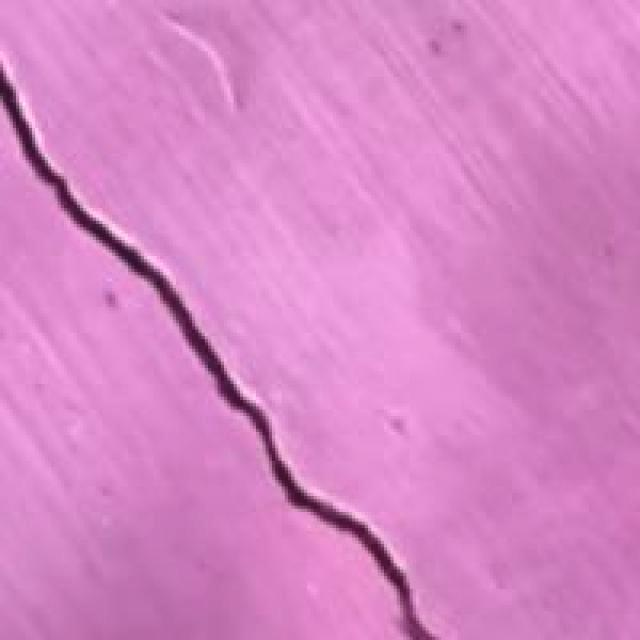crack: (0, 42, 452, 640)
